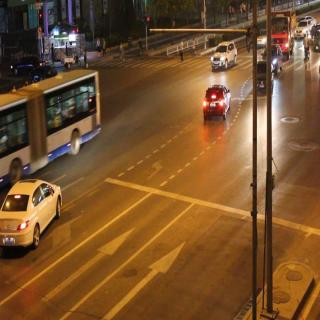BigCar: (0, 70, 108, 166), (269, 6, 298, 54)
Car: (0, 177, 67, 263), (201, 84, 234, 128), (248, 60, 278, 103), (214, 34, 248, 69), (259, 40, 284, 70), (292, 9, 311, 40), (311, 24, 320, 62)
